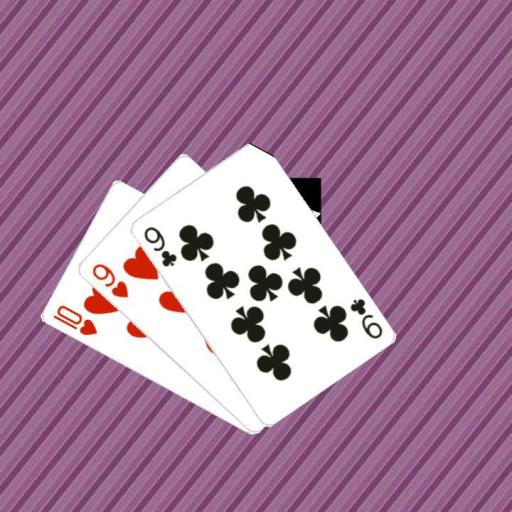10H: (50, 302, 99, 337)
9C: (140, 223, 179, 269), (346, 295, 384, 341)
9H: (89, 261, 130, 300)
